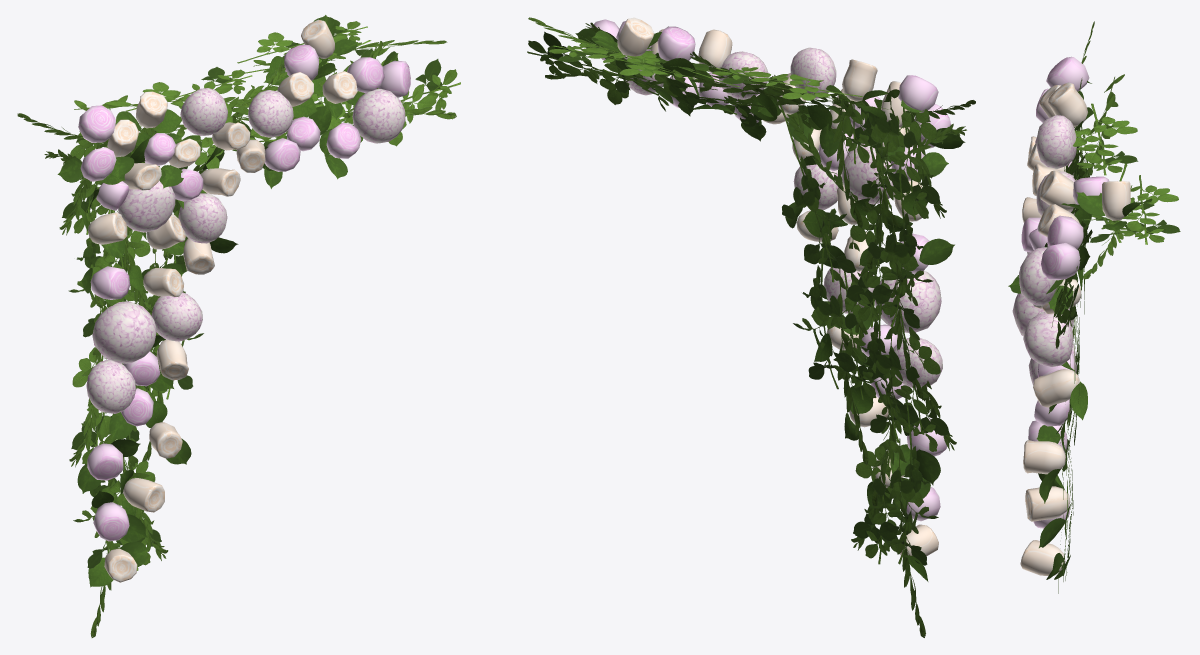
File: DecorFlowerArch01_3.FBX
The picture shows the model from 3 angles, left to right: view 1: azimuth 30°, elevation 25°; view 2: azimuth 150°, elevation 25°; view 3: azimuth 270°, elevation 25°; orthographic projection. The views are drawn at different scales.
Visible parts, largest first — view 1: DecorFlowerArch01_3; view 2: DecorFlowerArch01_3; view 3: DecorFlowerArch01_3.
Boxes of the visible parts, x1,y1,x2,y2 form: DecorFlowerArch01_3: (17,15,460,637); DecorFlowerArch01_3: (527,17,975,637); DecorFlowerArch01_3: (1008,21,1180,593).
Size of what is drawn, in the model's own units: 1.14 by 1.3 by 0.3556.
